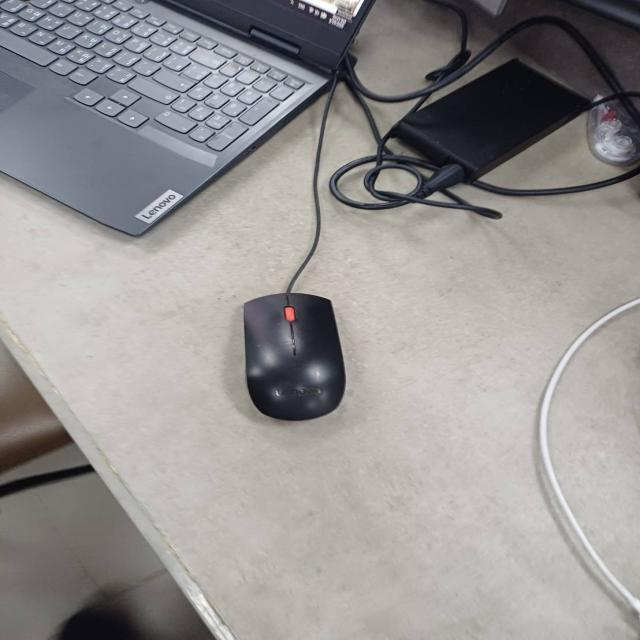mouse: (241, 288, 348, 425)
